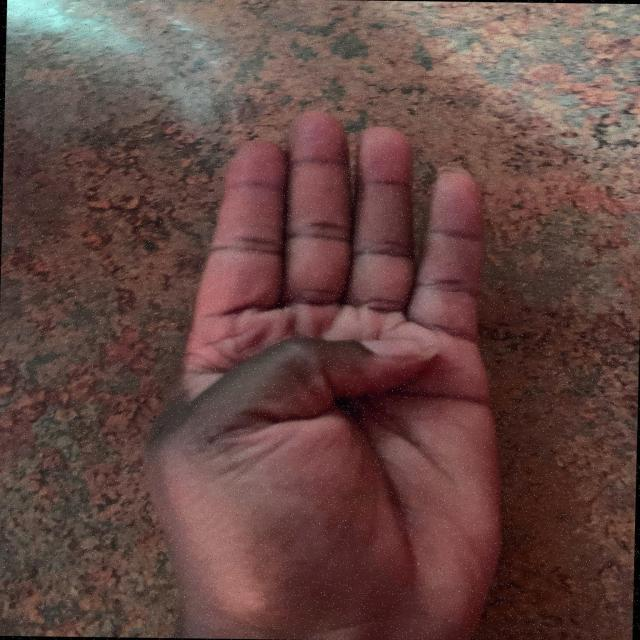B: (128, 101, 525, 640)
